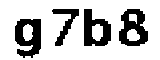7: (48, 6, 79, 50)
8: (117, 7, 149, 51)
b: (82, 7, 113, 52)
g: (11, 16, 45, 60)
